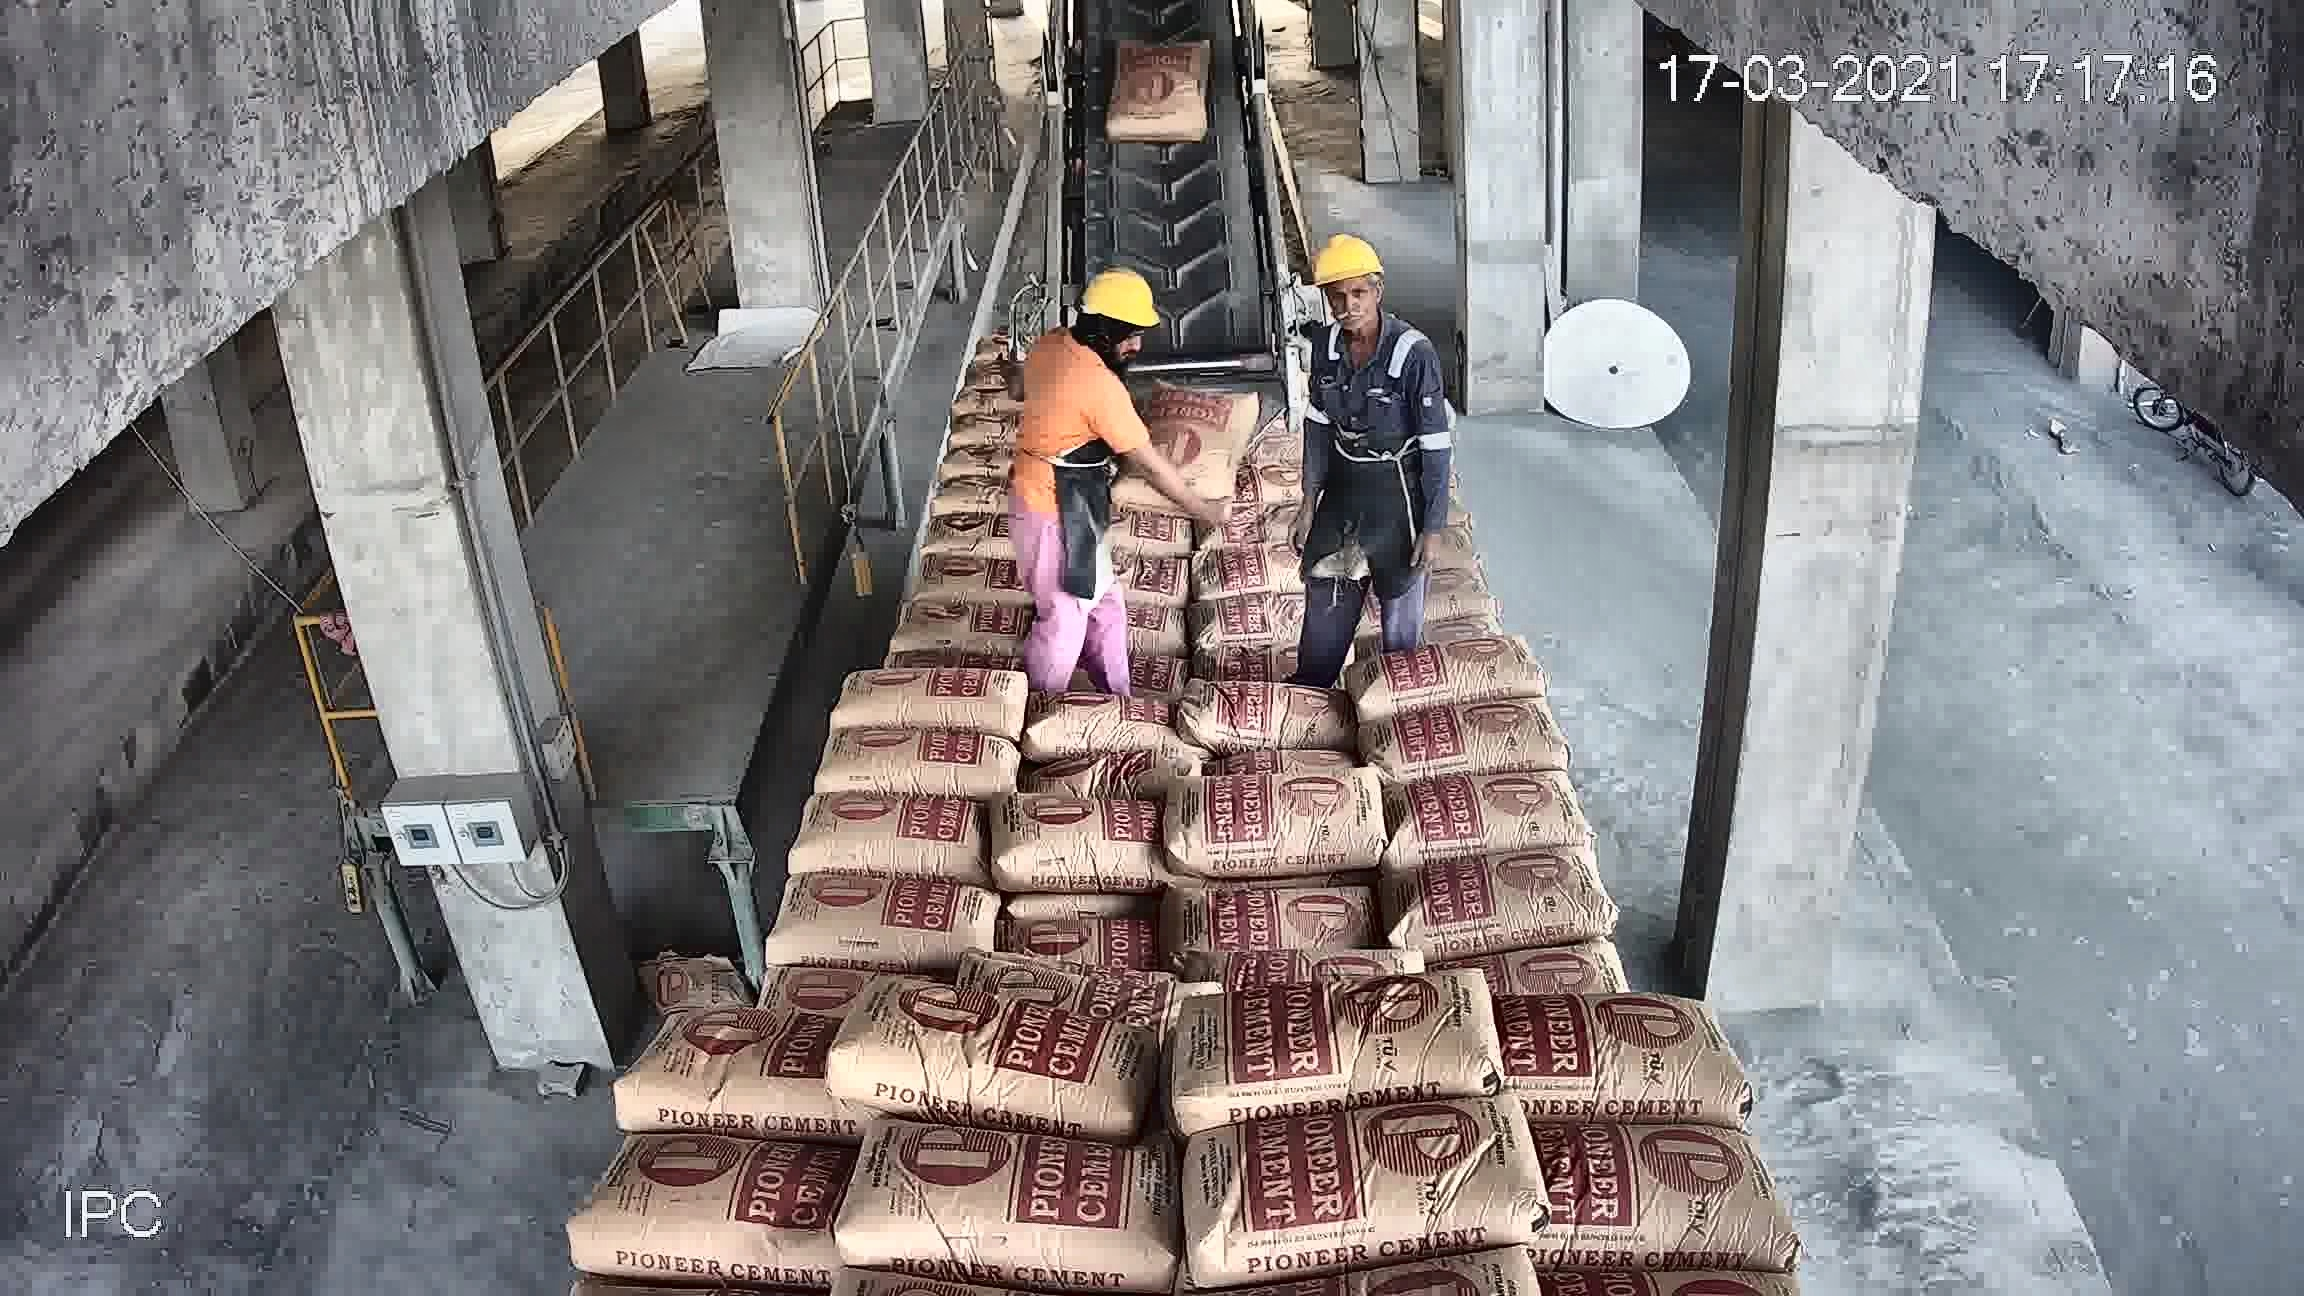bag: (1128, 385, 1256, 524), (1101, 36, 1211, 141)
bag_h: (1174, 1097, 1540, 1272), (1184, 965, 1513, 1127), (850, 1127, 1171, 1291), (805, 992, 1143, 1124), (574, 1131, 859, 1285), (1525, 1122, 1779, 1275), (1484, 991, 1734, 1128), (612, 1022, 840, 1143), (1176, 764, 1399, 877), (766, 877, 995, 976), (1381, 764, 1584, 867), (1377, 858, 1601, 949), (1173, 878, 1378, 973), (794, 788, 987, 885), (1377, 687, 1556, 783), (995, 796, 1165, 896), (812, 728, 1025, 802), (1002, 885, 1176, 973), (836, 657, 1029, 736), (1343, 638, 1552, 711), (1158, 680, 1348, 748), (1022, 687, 1177, 766), (972, 959, 1190, 1013), (886, 597, 1032, 658), (900, 552, 1036, 612), (1190, 593, 1309, 657), (1188, 505, 1299, 570), (916, 506, 1030, 568), (1188, 543, 1305, 597)
belt: (1041, 25, 1299, 438)
